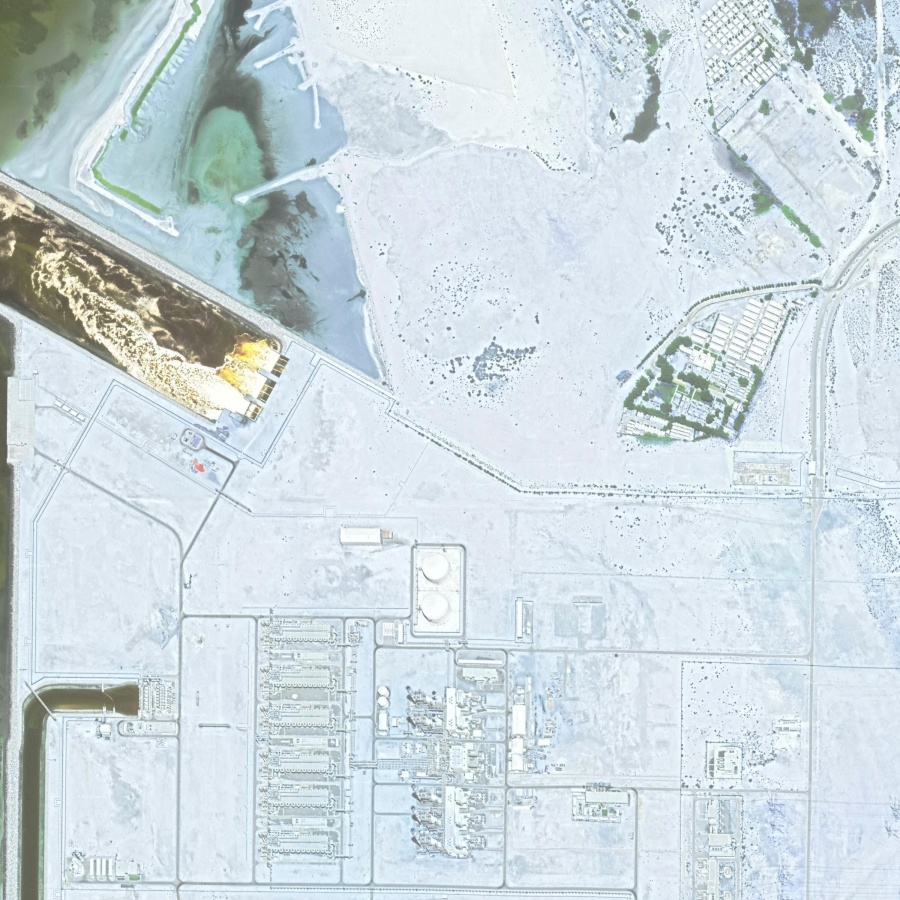PowerPlant: (254, 520, 585, 864)
